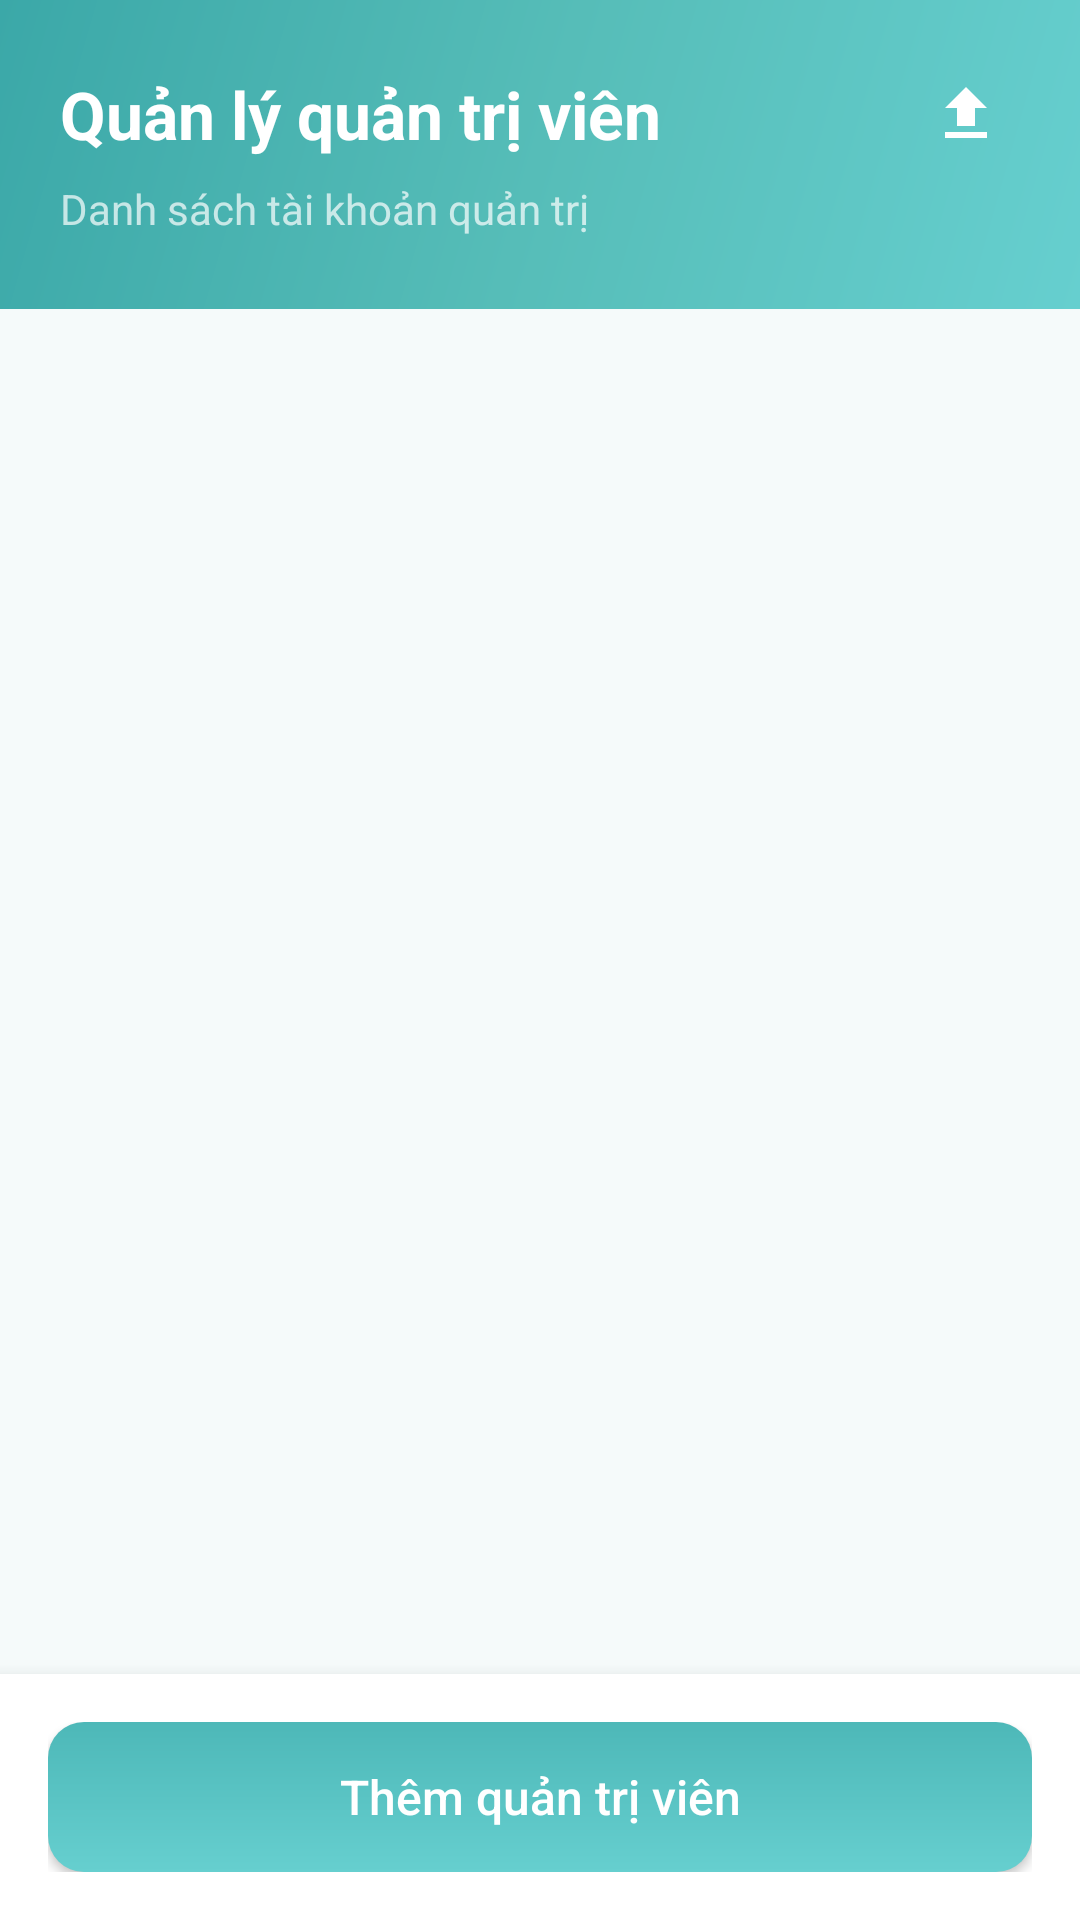

Where to tap for icons on this 1080×1920 app screen, as (x,y):
Import Admin CSV: (966,112)
